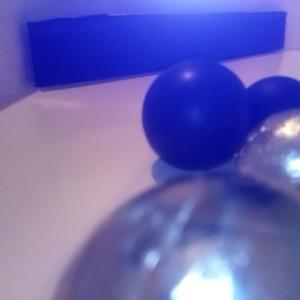alive_ball: (52, 171, 300, 300), (238, 109, 300, 211)
dead_ball: (142, 59, 249, 172), (236, 76, 300, 156)
